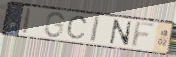C: (65, 15, 89, 40)
F: (129, 20, 158, 49)
G: (43, 11, 66, 39)
I: (88, 15, 101, 45), (21, 7, 34, 36)
N: (109, 18, 132, 48)
